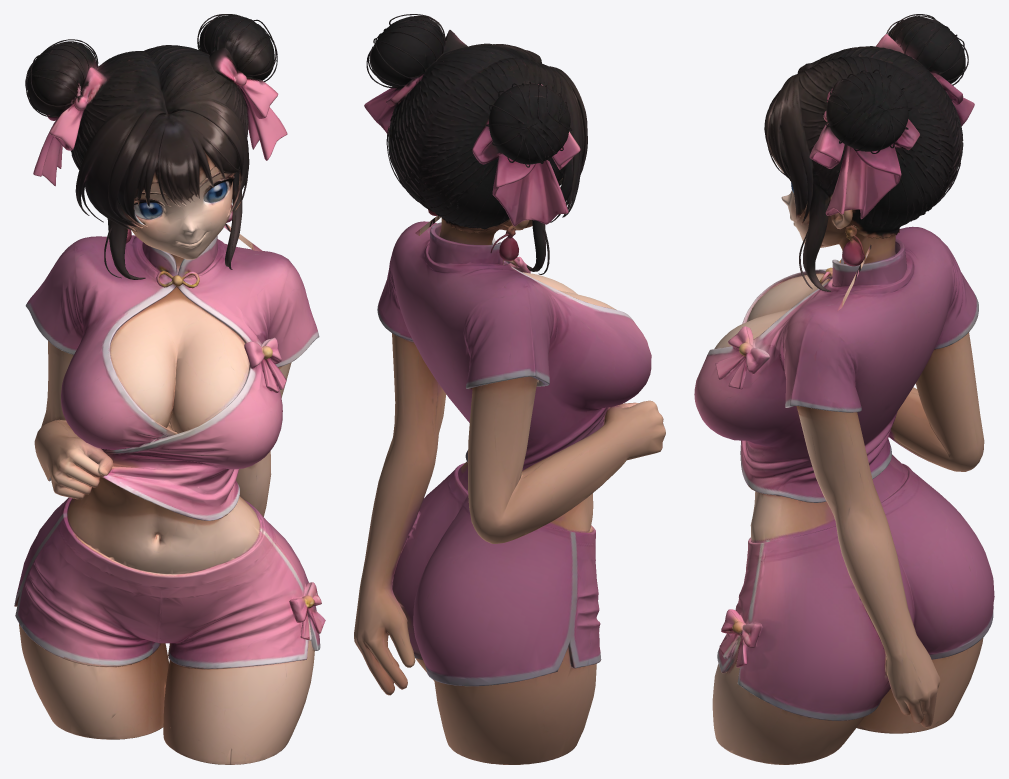
Rendered from 01a1acea-8310-771c-b06b-d73e2cd93158.glb.
The picture shows the model from 3 angles, left to right: view 1: azimuth 30°, elevation 25°; view 2: azimuth 150°, elevation 25°; view 3: azimuth 270°, elevation 25°; orthographic projection.
Parts seen in each view (by area): view 1: node_0; view 2: node_0; view 3: node_0.
Part boxes in pixels (bbox=[...]): node_0: bbox=[14, 14, 325, 764]; node_0: bbox=[354, 14, 665, 764]; node_0: bbox=[694, 14, 994, 764].
Bounding box in the file's own units: 0.466 × 1.13 × 0.4475.
Materials: 1 (1 with a texture image).
